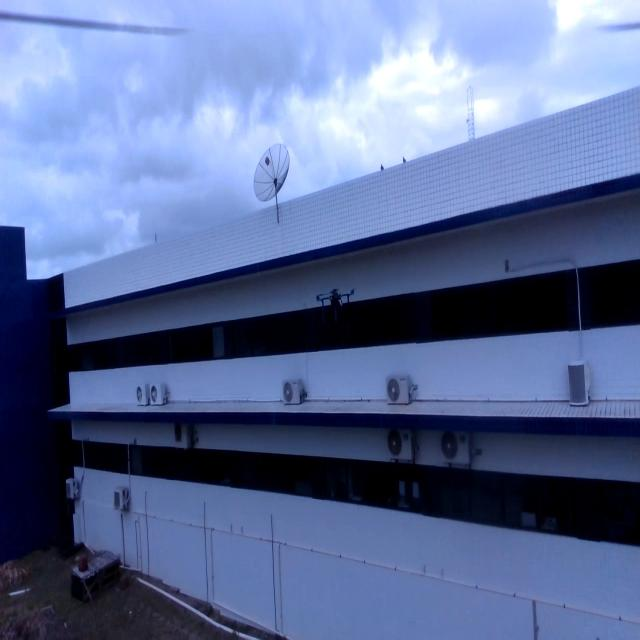-uav-: (312, 280, 362, 327)
